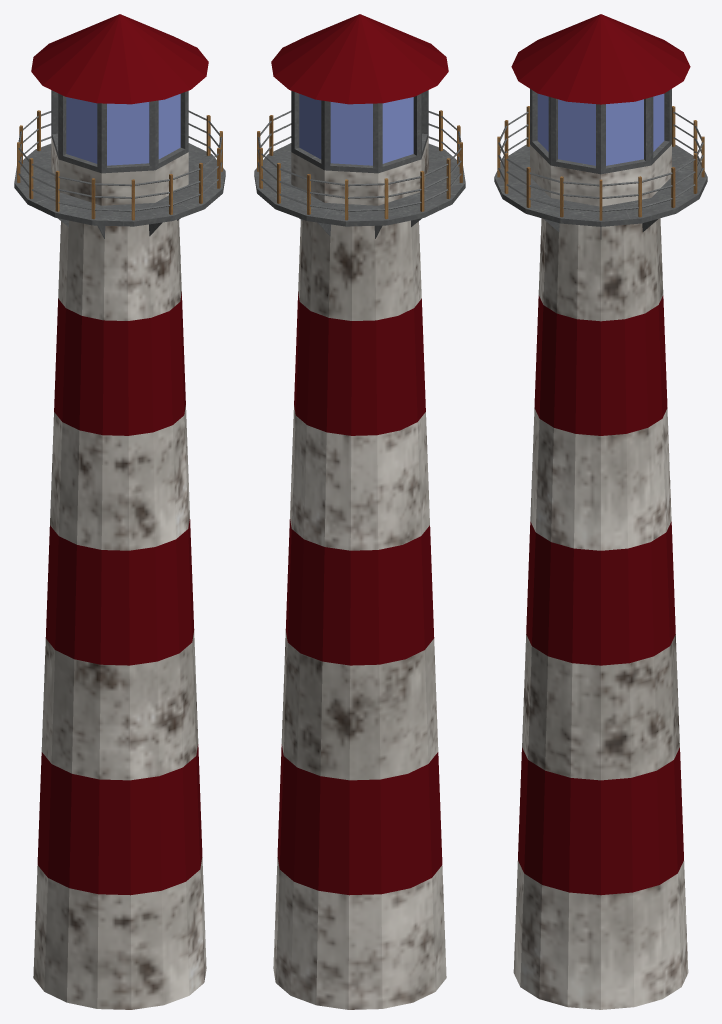
Rendered from Latarnia_Morska.fbx.
3 renders of one model, left to right at view 1: azimuth 30°, elevation 25°; view 2: azimuth 150°, elevation 25°; view 3: azimuth 270°, elevation 25°, orthographic.
Parts seen in each view (by area): view 1: Wieża.001, Cylinder.001, Dach.001, Platforma.001, Barierki.001; view 2: Wieża.001, Cylinder.001, Dach.001, Platforma.001, Barierki.001; view 3: Wieża.001, Cylinder.001, Dach.001, Platforma.001, Barierki.001.
Boxes of the visible parts, box(x1,y1,x2,y2) form: Wieża.001: box(33, 219, 206, 1009); Cylinder.001: box(51, 90, 188, 205); Dach.001: box(31, 14, 208, 104); Platforma.001: box(14, 143, 225, 226); Barierki.001: box(17, 110, 222, 220); Wieża.001: box(273, 219, 446, 1009); Cylinder.001: box(291, 90, 428, 205); Dach.001: box(271, 14, 448, 104); Platforma.001: box(254, 143, 465, 226); Barierki.001: box(257, 110, 462, 220); Wieża.001: box(513, 218, 688, 1009); Cylinder.001: box(530, 89, 671, 206); Dach.001: box(511, 14, 690, 104); Platforma.001: box(494, 144, 707, 226); Barierki.001: box(497, 106, 704, 220).
Bounding box in the file's own units: 733 × 3637 × 733.
